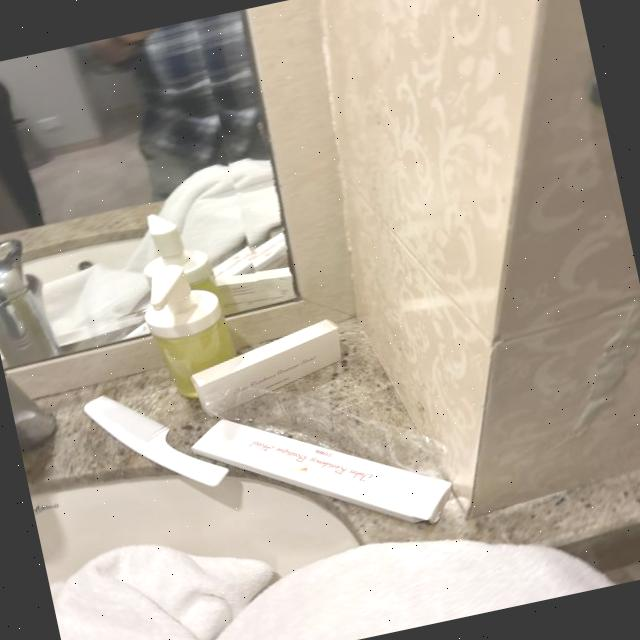disorganized_towel: (50, 538, 624, 640)
mess: (71, 298, 482, 585)
messy_sink: (0, 180, 388, 640)
